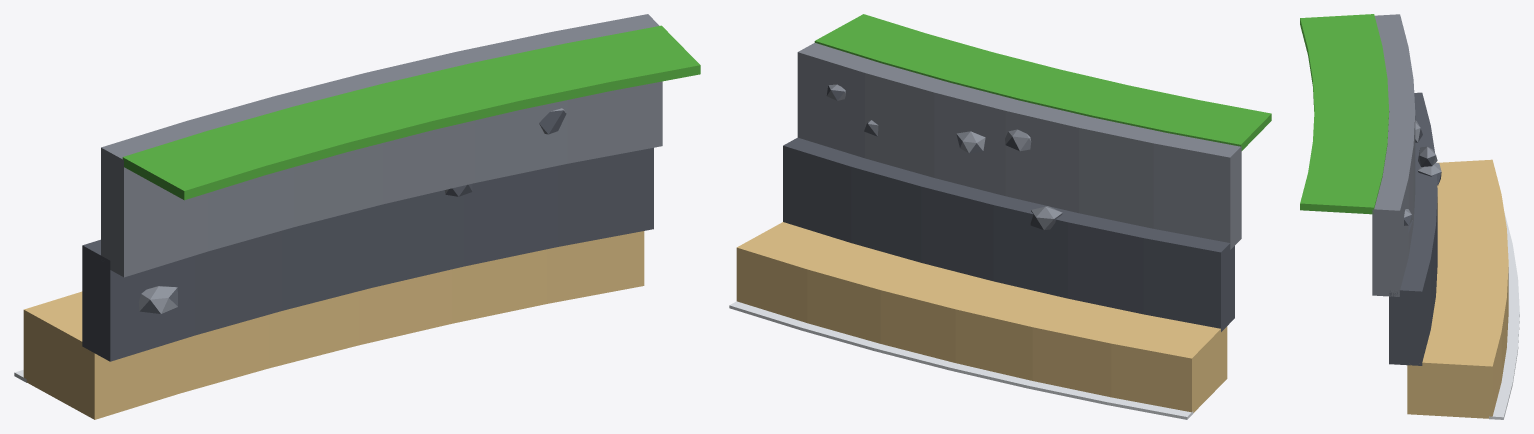
The model's file is OceanEdge.fbx.
3 views of the same model, side by side, from view 1: azimuth 30°, elevation 25°; view 2: azimuth 150°, elevation 25°; view 3: azimuth 270°, elevation 25° (orthographic). The views are drawn at different scales.
Parts seen in each view (by area): view 1: OceanEdge; view 2: OceanEdge; view 3: OceanEdge.
Part boxes in pixels (x1,y1,x2,y2): OceanEdge: (14, 14, 700, 419); OceanEdge: (729, 14, 1271, 419); OceanEdge: (1300, 14, 1519, 419).
Size of the model in its own units: 132 by 60.6 by 58.85.
Materials: 1 (1 with a texture image).
